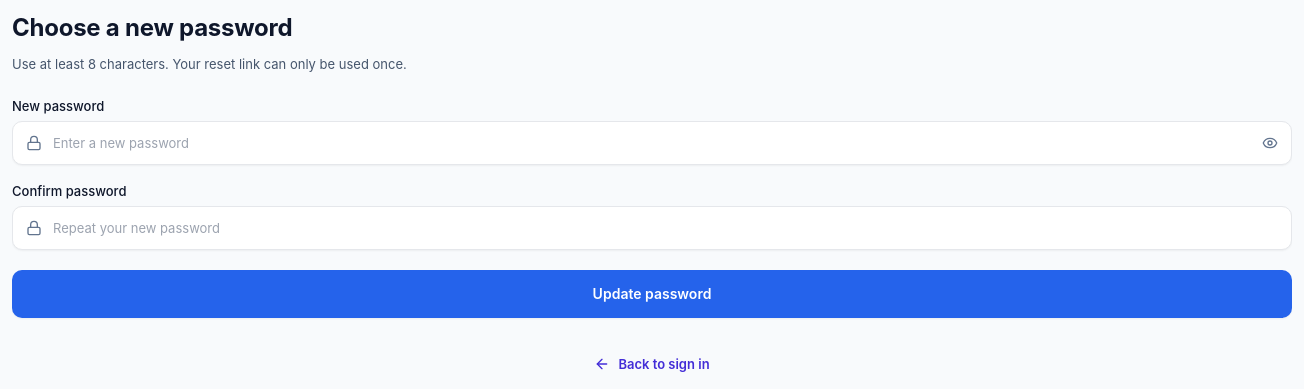
it: password recovery forms › submits the reset token and new password then shows success
This screenshot has width=1304, height=389.
Type "new-password" into the password field labelled "New password" at (652, 143), box [12, 121, 1292, 165]
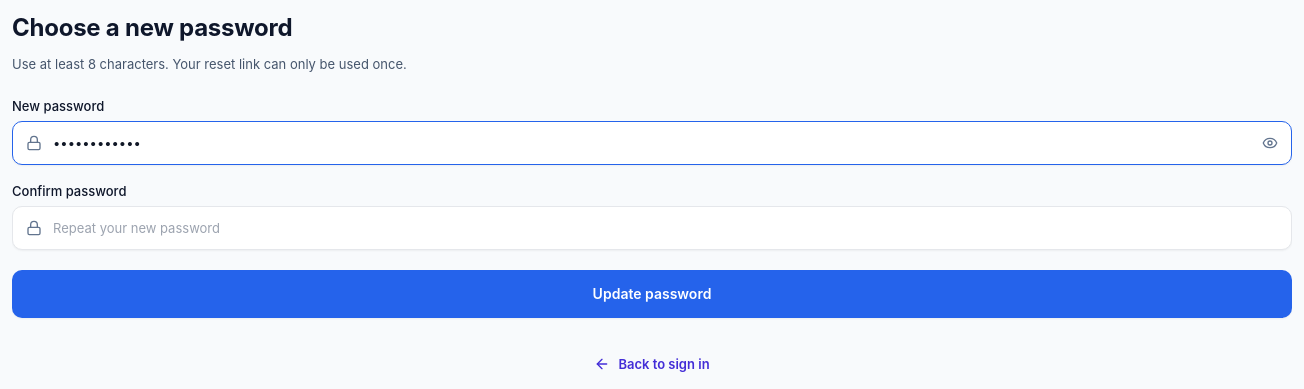
Type "new-password" into the password field labelled "Confirm password" at (652, 228), box [12, 206, 1292, 250]
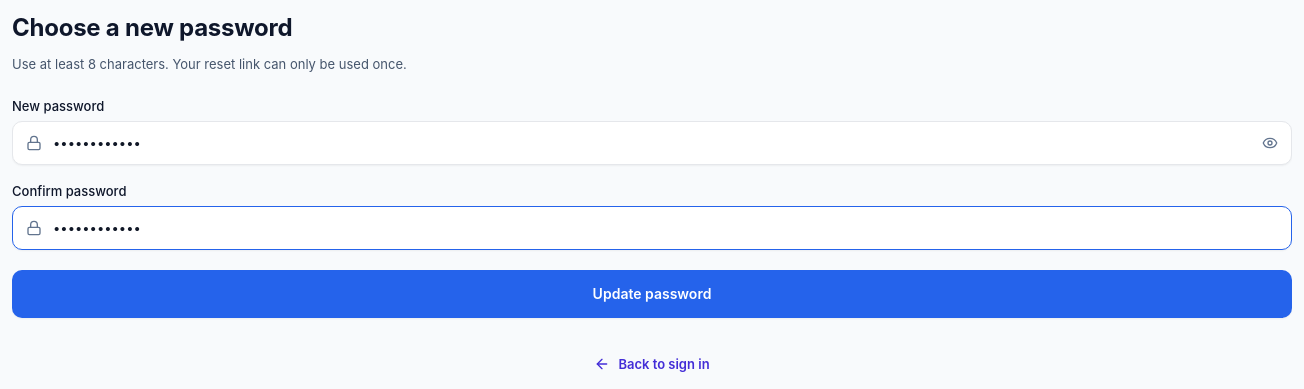
Click the button "Update password" at (652, 294), box [12, 270, 1292, 318]
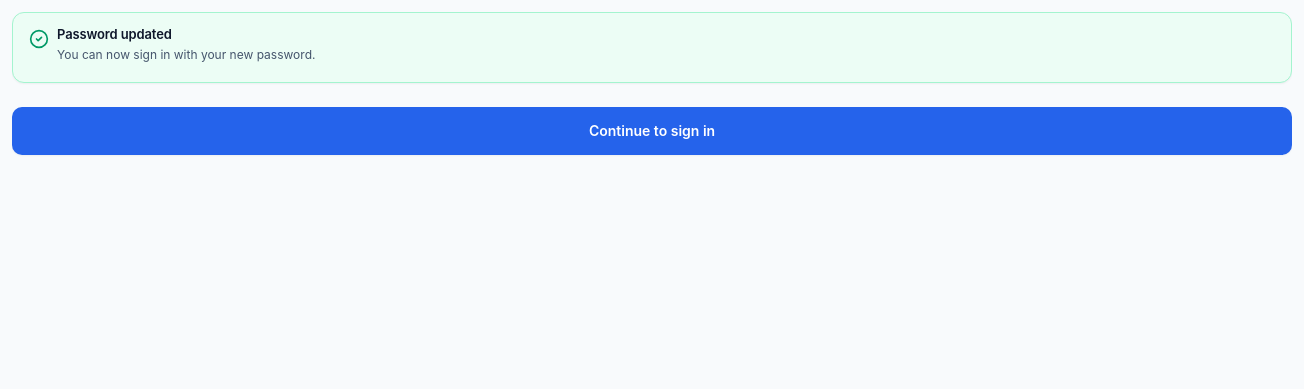
Now the heading "Password updated" is shown, box [57, 26, 172, 42]
